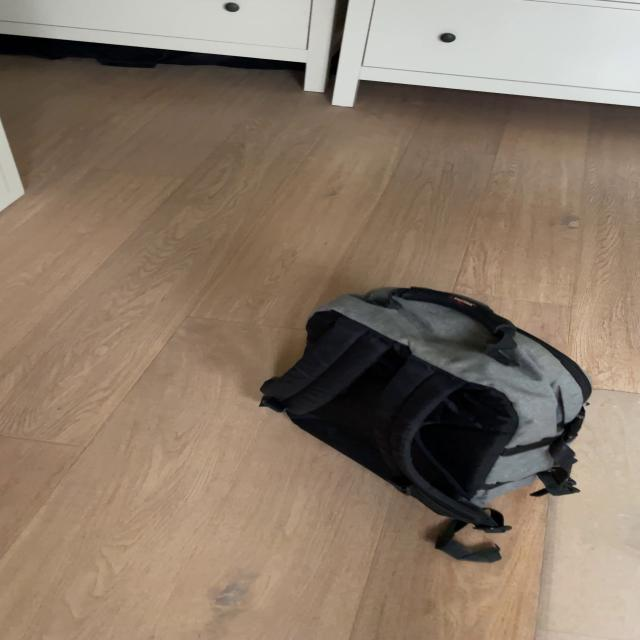backpack: (247, 272, 601, 528)
